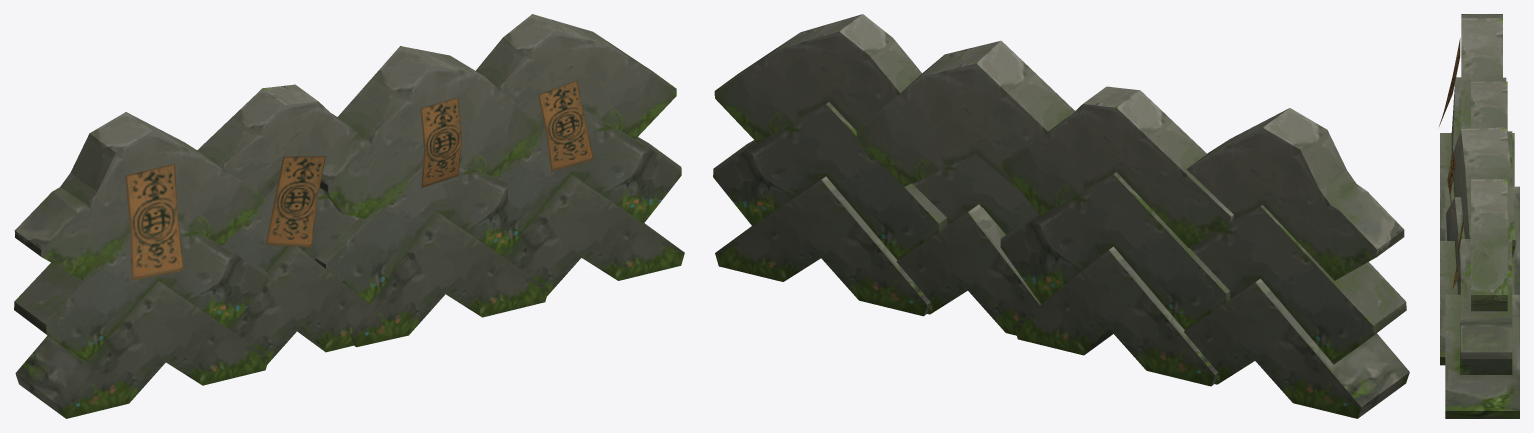
File: shrine_wj002_08.FBX
3 renders of one model, left to right at view 1: azimuth 30°, elevation 25°; view 2: azimuth 150°, elevation 25°; view 3: azimuth 270°, elevation 25°, orthographic. The views are drawn at different scales.
Visible parts, largest first — view 1: shrine_wj002_08; view 2: shrine_wj002_08; view 3: shrine_wj002_08.
Part boxes in pixels (x1,y1,x2,y2): shrine_wj002_08: (14, 14, 684, 418); shrine_wj002_08: (713, 14, 1409, 418); shrine_wj002_08: (1439, 14, 1519, 418).
Bounding box in the file's own units: 356 × 135 × 49.77.
Materials: 1 (1 with a texture image).
